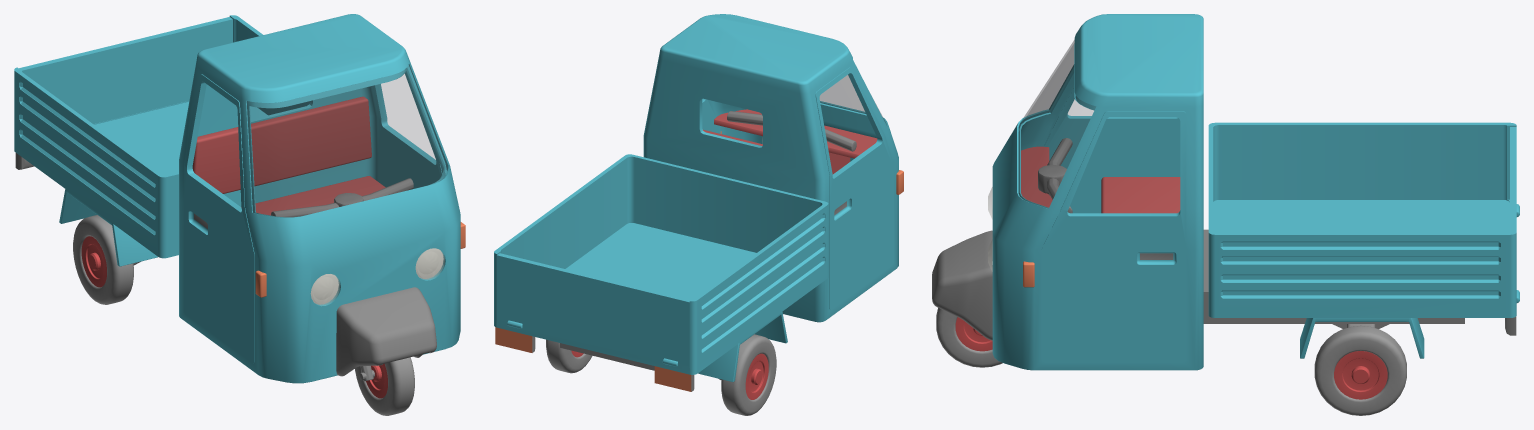
File: uploads_files_2585031_AUTO+CG.fbx
The picture shows the model from 3 angles, left to right: view 1: azimuth 30°, elevation 25°; view 2: azimuth 150°, elevation 25°; view 3: azimuth 270°, elevation 25°; orthographic projection. The views are drawn at different scales.
Parts seen in each view (by area): view 1: pCube42, pCube46, pCube16, pCube44, pCube31, pCube8, pCube15, pPipe1, pPipe1_3, pCube33, pCube40, pCylinder13 (+4 smaller); view 2: pCube46, pCube42, pCube44, pCube16, pPipe1, pCube29, pCube40, pCube47, pPipe1_2, pCylinder1, pCylinder11, pCube22 (+1 smaller); view 3: pCube46, pCube42, pCube15, pCube16, pCube8, pPipe1_2, pCube33, pCylinder1_2, pCube22, pPipe1_3, pCube29, pCube40 (+3 smaller).
Boxes of the visible parts, box(x1,y1,x2,y2) form: pCube42: box(179, 14, 460, 383); pCube46: box(14, 15, 310, 258); pCube16: box(184, 74, 254, 363); pCube44: box(19, 17, 232, 123); pCube31: box(192, 96, 371, 193); pCube8: box(336, 287, 436, 376); pCube15: box(372, 65, 445, 188); pPipe1: box(73, 215, 133, 304); pPipe1_3: box(355, 357, 414, 415); pCube33: box(241, 176, 385, 215); pCube40: box(59, 189, 157, 266); pCylinder13: box(311, 248, 444, 305); pCube46: box(494, 154, 828, 374); pCube42: box(643, 14, 898, 322); pCube44: box(497, 253, 690, 366); pCube16: box(815, 67, 893, 309); pPipe1: box(721, 334, 776, 415); pCube29: box(714, 109, 877, 174); pCube40: box(698, 312, 787, 381); pCube47: box(495, 327, 694, 391); pPipe1_2: box(546, 339, 592, 373); pCylinder1: box(745, 353, 768, 399); pCylinder11: box(727, 111, 856, 151); pCube22: box(560, 343, 654, 370); pCube46: box(1208, 122, 1519, 317); pCube42: box(992, 14, 1203, 370); pCube15: box(1041, 111, 1186, 362); pCube16: box(1044, 88, 1180, 213); pCube8: box(932, 230, 992, 340); pPipe1_2: box(1314, 325, 1406, 415); pCube33: box(1101, 177, 1180, 213); pCylinder1_2: box(1334, 351, 1387, 399); pCube22: box(1203, 229, 1464, 323); pPipe1_3: box(936, 307, 1002, 367); pCube29: box(1021, 146, 1052, 207); pCube40: box(1300, 318, 1424, 358).
Size of the model in its own units: 113 by 146 by 251.
